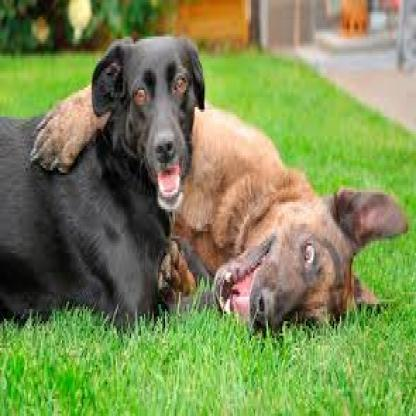dog: (2, 37, 204, 321), (171, 100, 406, 328)
